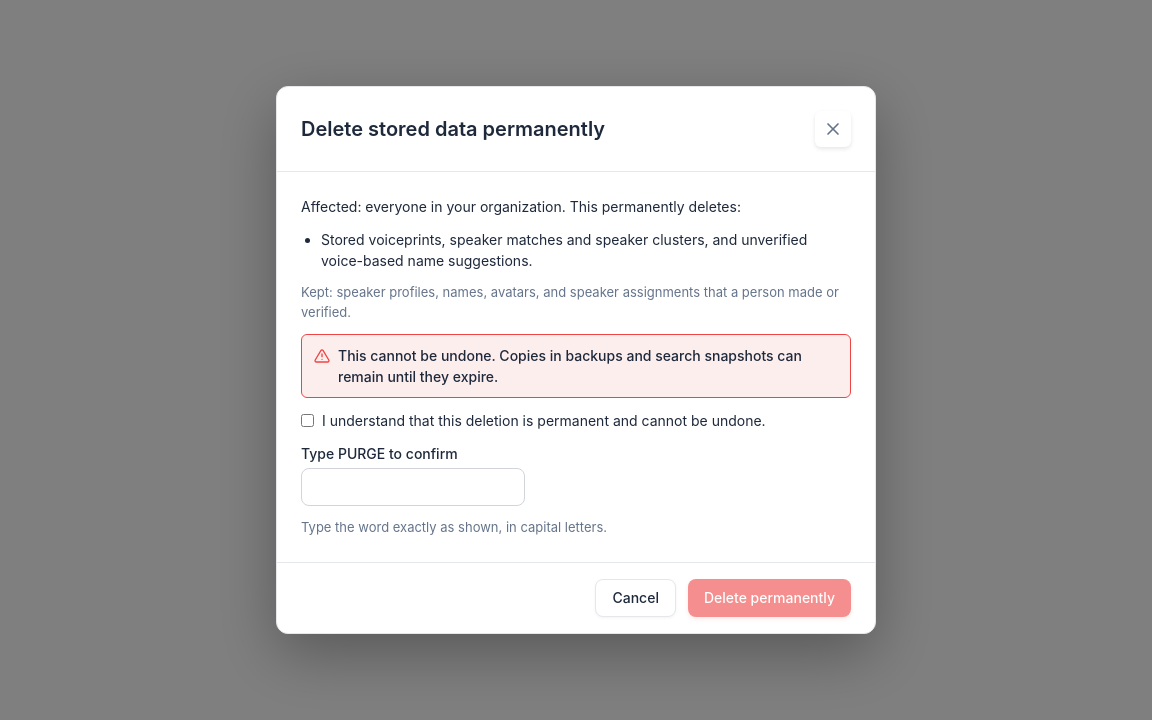
PurgeConfirmDialog › shows the server refusal and leaves the button usable for a retry
Click the checkbox: x=308, y=421 [301,414,314,427]
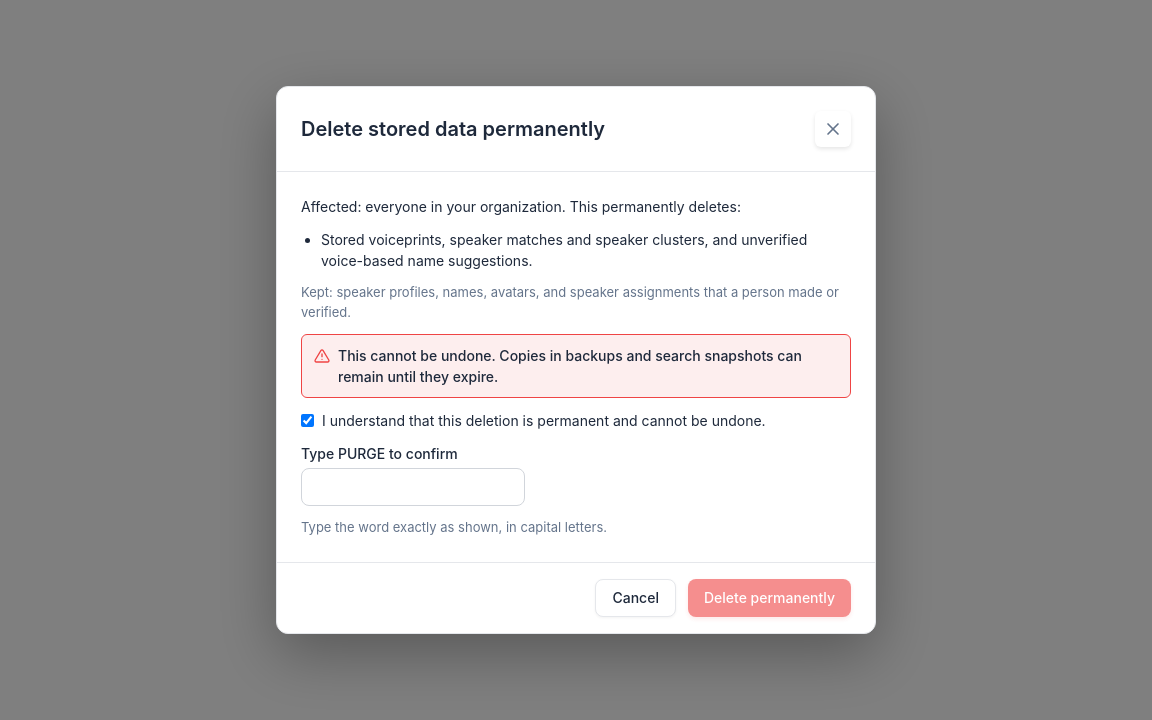
In the field: x=413, y=487 [301,468,525,506], type "PURGE"
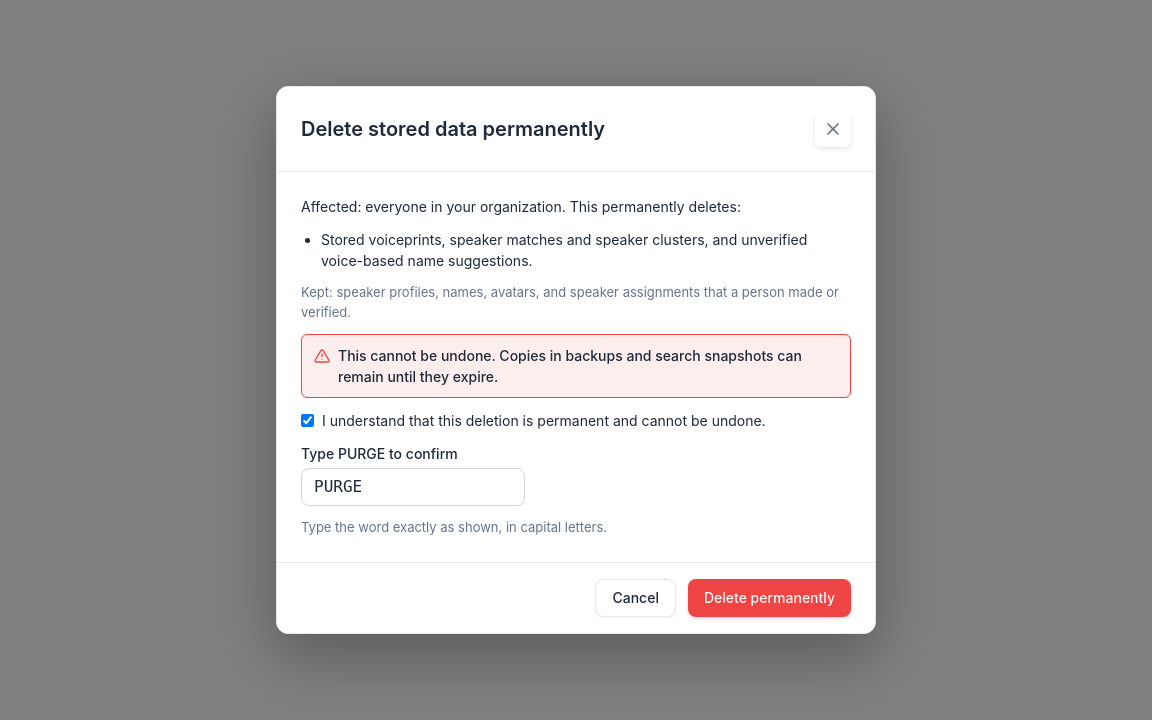
Click the button with test id "purge-confirm": x=770, y=598 [688,579,851,617]
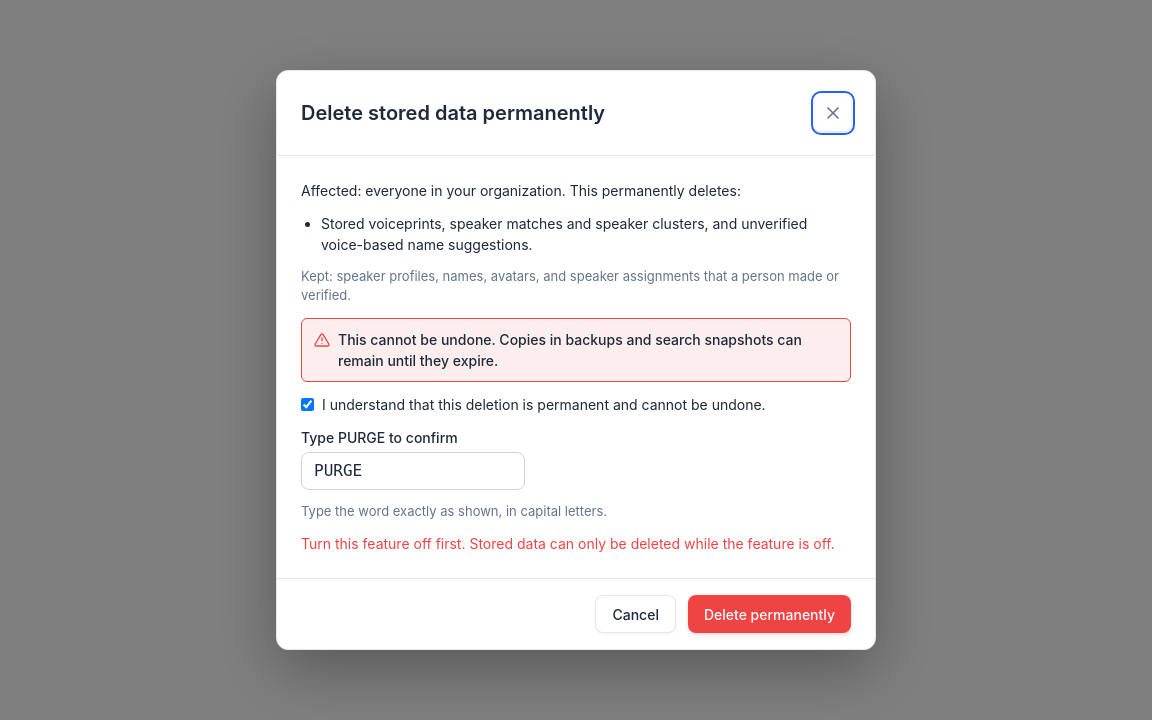
Result: the button with test id "purge-confirm" is enabled at [688,595,851,633]
Result: the message shows "Turn this feature off first" at [301,535,835,552]
